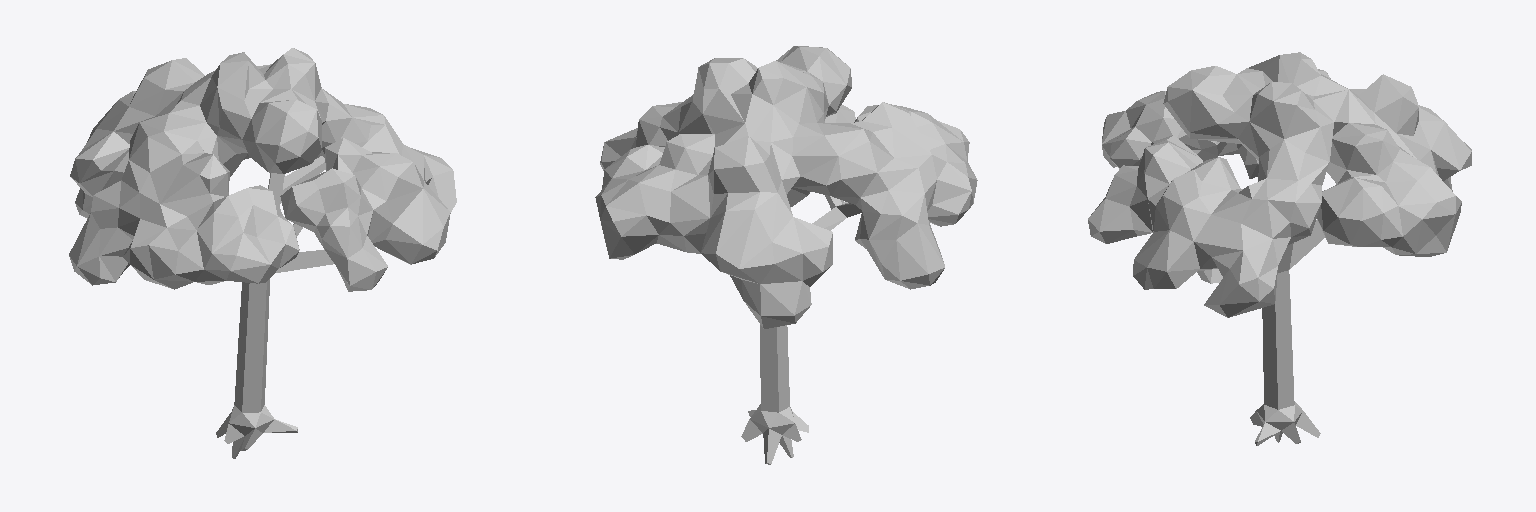
The model's file is tree.obj.
3 views of the same model, side by side, from view 1: azimuth 30°, elevation 25°; view 2: azimuth 150°, elevation 25°; view 3: azimuth 270°, elevation 25° (orthographic).
Parts seen in each view (by area): view 1: Icosphere000; view 2: Icosphere000; view 3: Icosphere000.
Boxes of the visible parts, <box> form: Icosphere000: <box>69,48,456,458</box>; Icosphere000: <box>595,46,977,464</box>; Icosphere000: <box>1088,52,1471,445</box>.
Size of the model in its own units: 635 by 671 by 593.